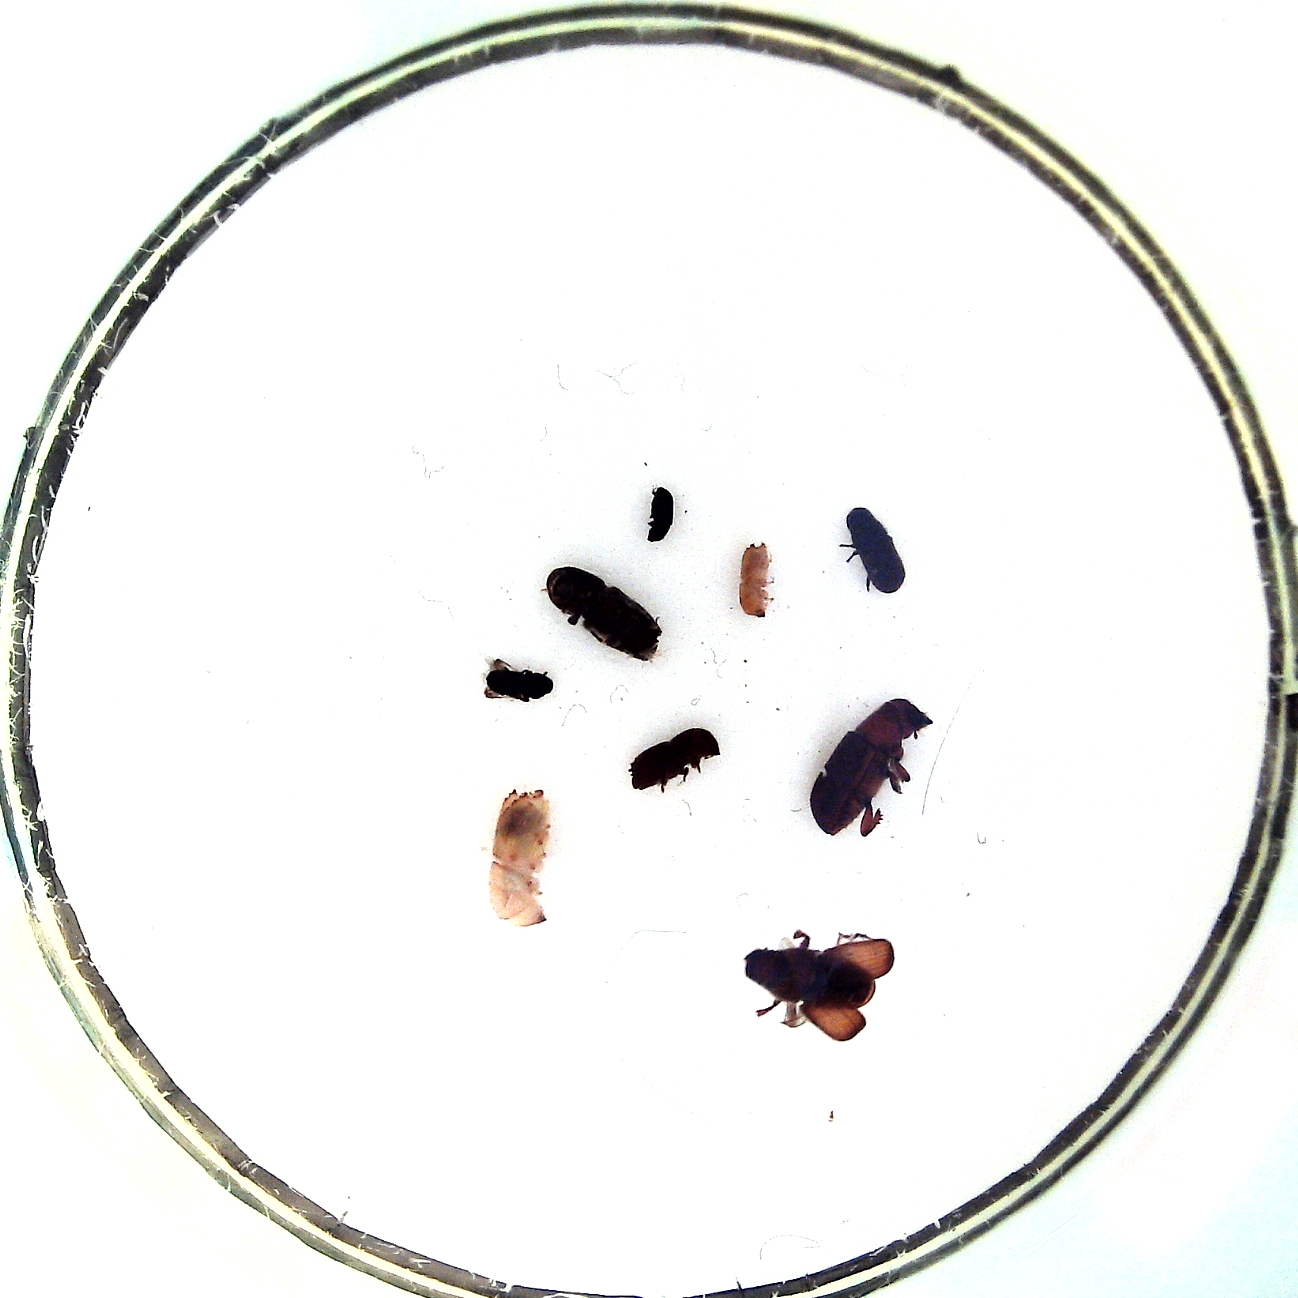Boerner: (483, 780, 562, 933)
Leconte: (804, 694, 940, 839), (737, 924, 899, 1044), (535, 559, 668, 667)
Linnaeus: (626, 720, 724, 794)
acuminatus: (735, 538, 780, 618)
armandi: (834, 502, 916, 598)
coleoptera: (478, 653, 562, 707), (644, 480, 678, 544)
